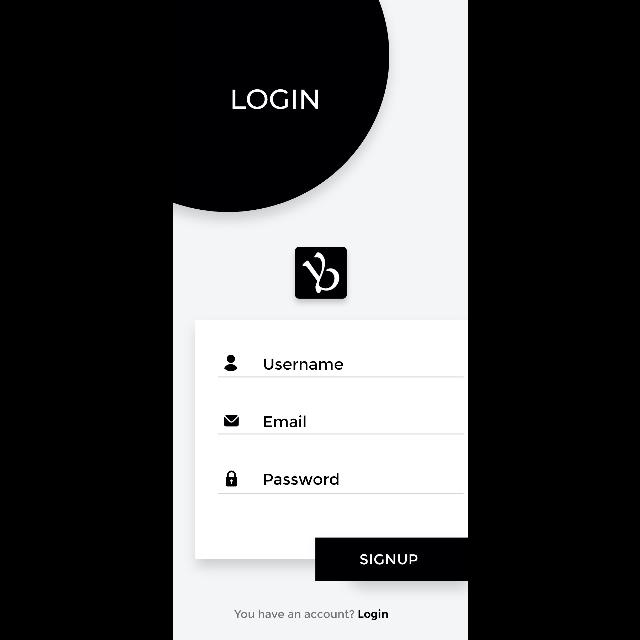icon: (224, 355, 236, 371), (226, 471, 237, 487), (224, 416, 238, 426)
image: (294, 247, 346, 299)
input: (216, 354, 464, 378), (216, 471, 464, 494), (216, 416, 464, 434)
text: (232, 89, 318, 109), (234, 610, 388, 620), (264, 358, 342, 370), (264, 473, 338, 485), (263, 415, 305, 427)
textbutton: (315, 538, 467, 580)
